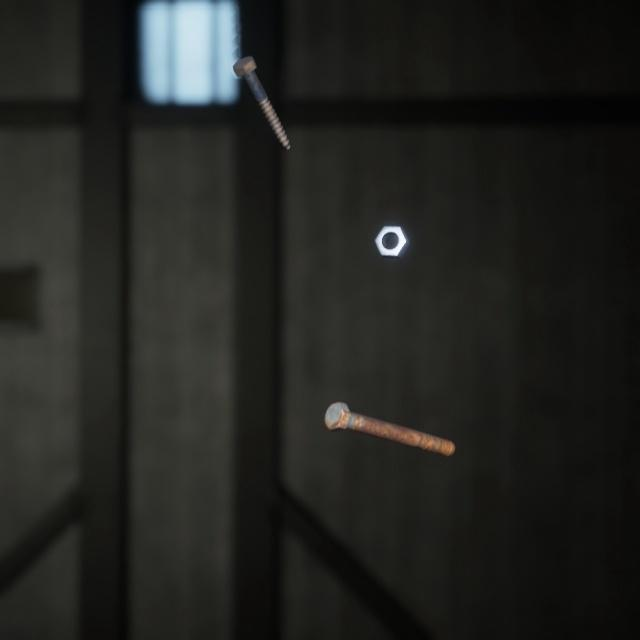bolt: (320, 377, 459, 441), (228, 39, 295, 142)
nut: (370, 206, 415, 247)
